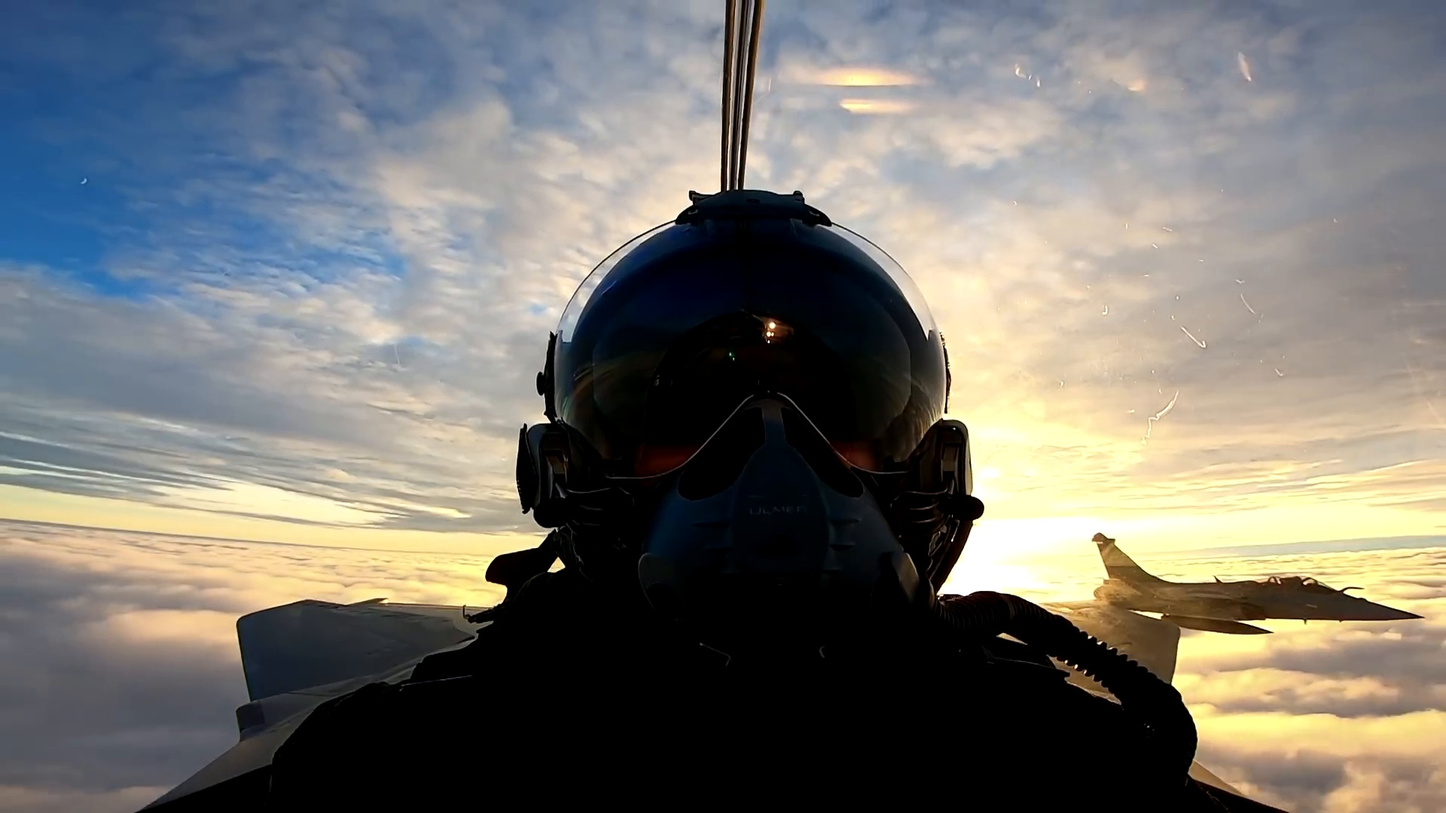Rafale: (1082, 529, 1425, 633)
